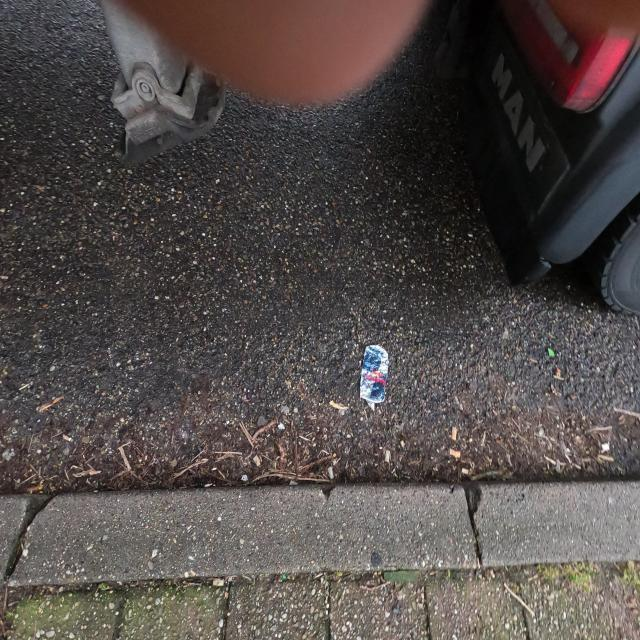Can-Metal: (358, 342, 391, 404)
